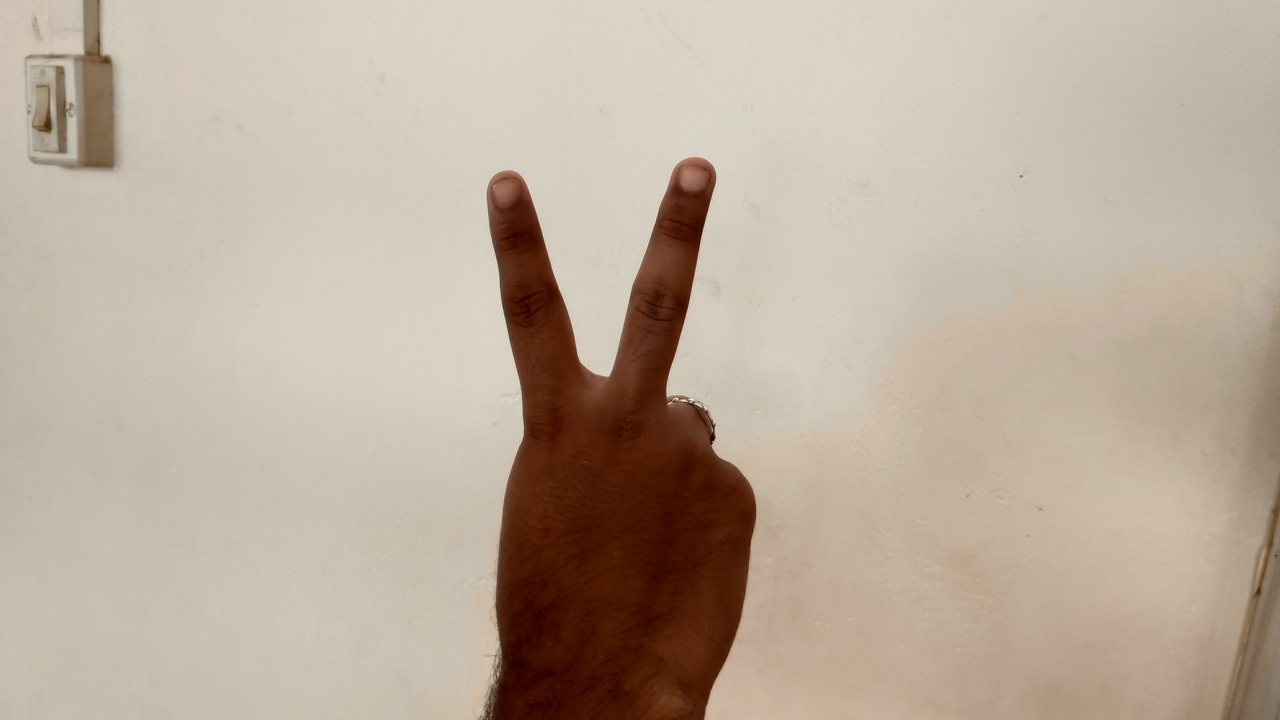fingertip: (656, 150, 724, 206), (480, 164, 538, 216)
